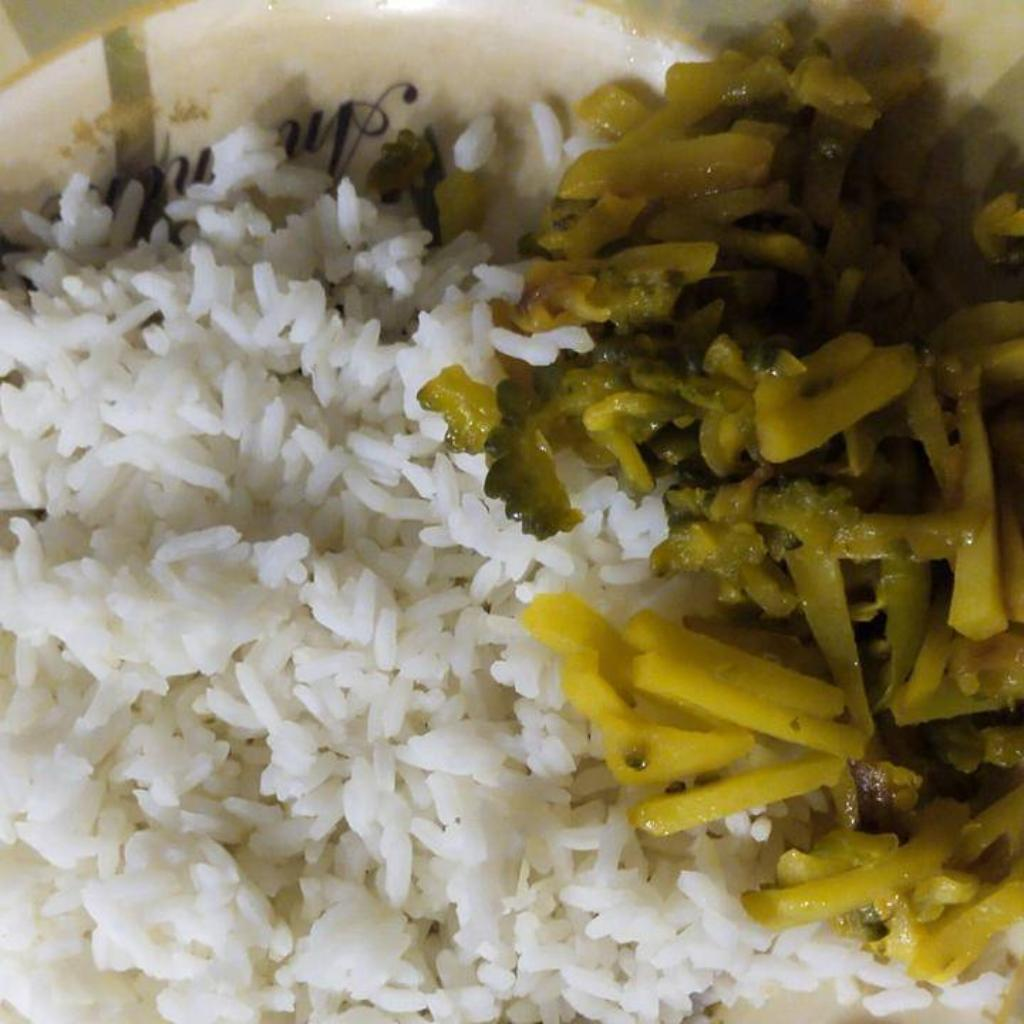rice: (0, 128, 1006, 1023)
vegetable: (418, 26, 1023, 976)
